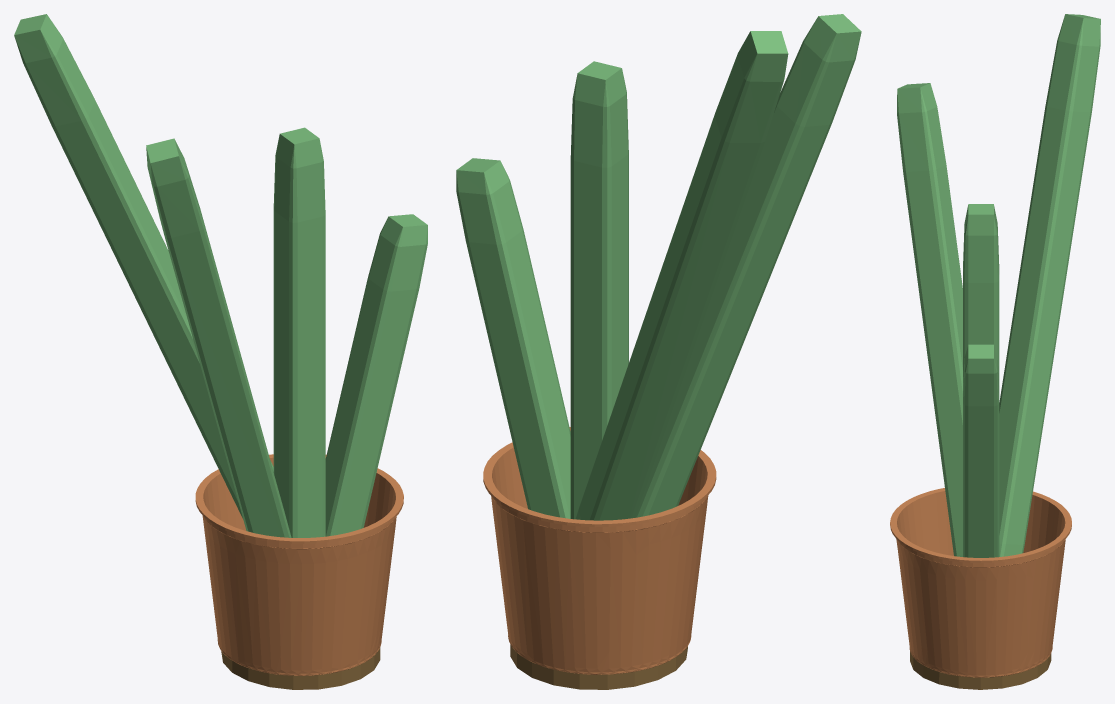
Rendered from potted_tree_5.glb.
3 renders of one model, left to right at view 1: azimuth 30°, elevation 25°; view 2: azimuth 150°, elevation 25°; view 3: azimuth 270°, elevation 25°, orthographic. The views are drawn at different scales.
Parts seen in each view (by area): view 1: Mesh_Mesh_head_geo.001_lambert2SG.001; view 2: Mesh_Mesh_head_geo.001_lambert2SG.001; view 3: Mesh_Mesh_head_geo.001_lambert2SG.001.
Boxes of the visible parts, x1=… form: Mesh_Mesh_head_geo.001_lambert2SG.001: x1=14, y1=14, x2=427, y2=689; Mesh_Mesh_head_geo.001_lambert2SG.001: x1=456, y1=14, x2=861, y2=689; Mesh_Mesh_head_geo.001_lambert2SG.001: x1=890, y1=14, x2=1100, y2=689.
Size of the model in its own units: 2.52 by 4.47 by 1.52.
